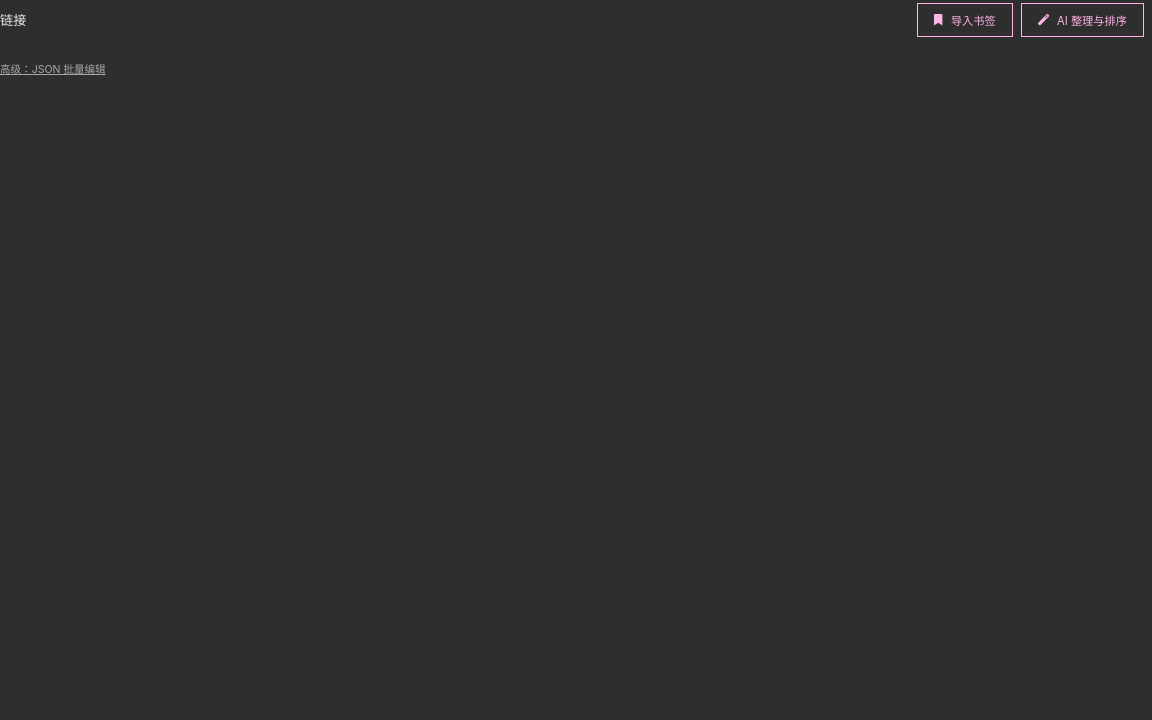
Test: LinkSettings AI request cancellation › blocks AI generation when the tested connection is still an unsaved draft
This screenshot has width=1152, height=720.
Step 1. Click the button "AI 整理与排序" → (1082, 20), box [1021,2,1144,36]
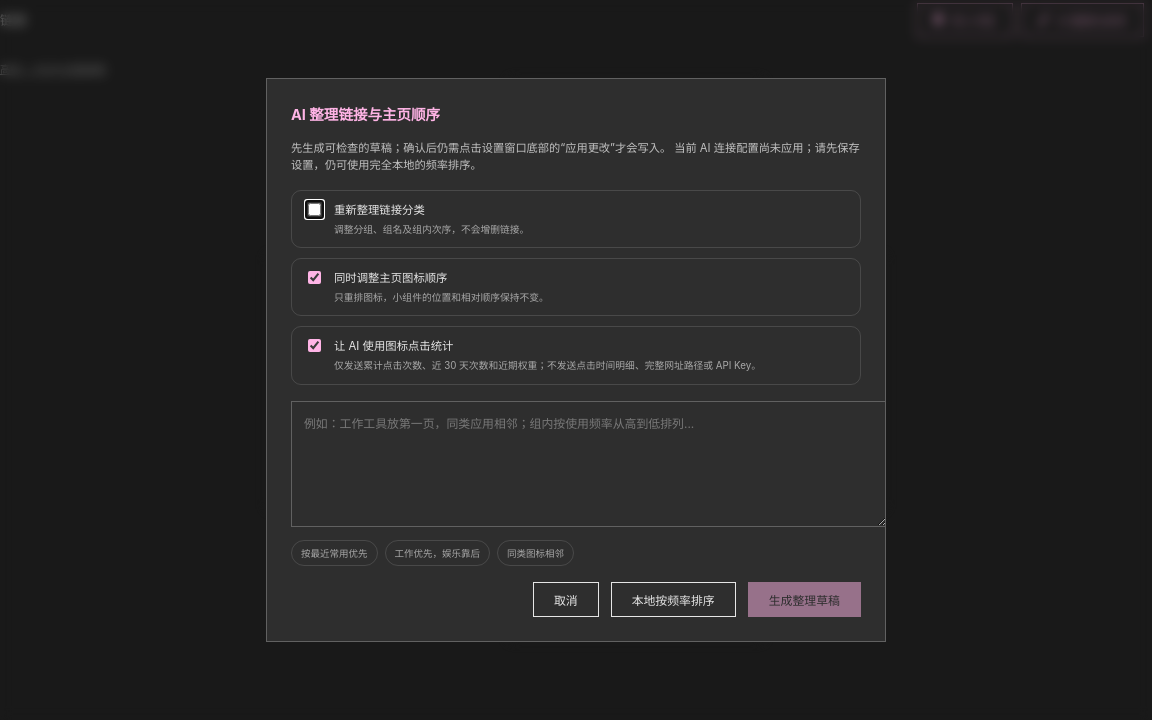
Now the text "AI 连接配置尚未应用" is shown, box [291,141,860,172]
Now the button "生成整理草稿" is disabled, box [748,582,861,617]
